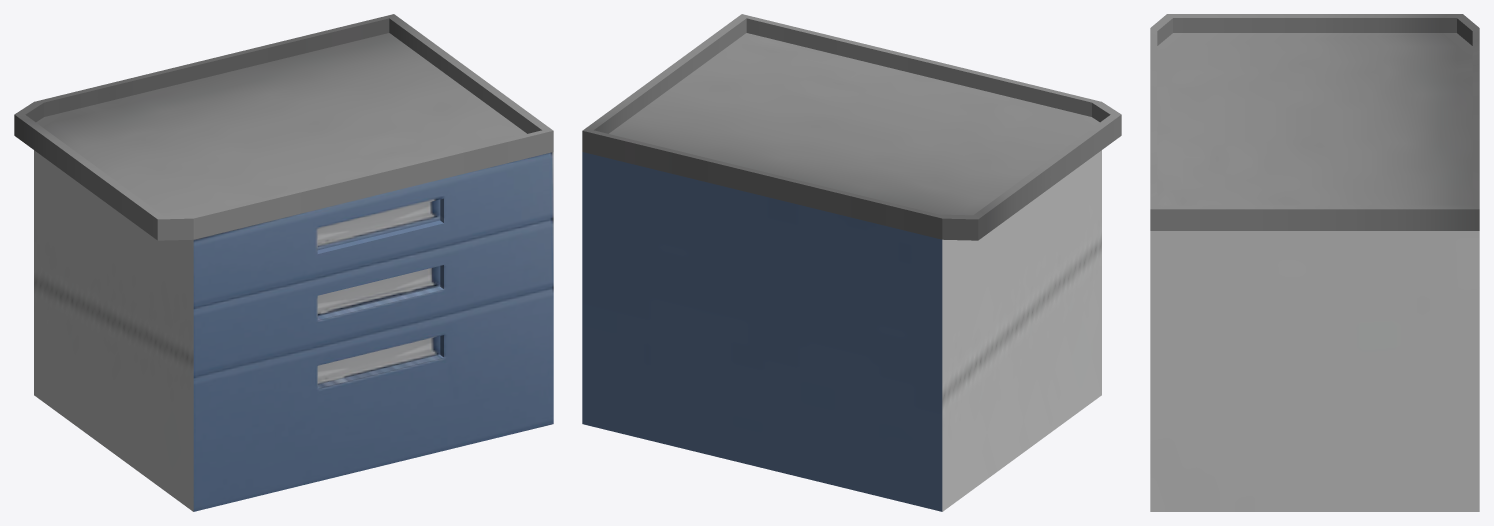
Rendered from tableroulante.fbx.
3 renders of one model, left to right at view 1: azimuth 30°, elevation 25°; view 2: azimuth 150°, elevation 25°; view 3: azimuth 270°, elevation 25°, orthographic. The views are drawn at different scales.
Visible parts, largest first — view 1: MSH_meuble4; view 2: MSH_meuble4; view 3: MSH_meuble4.
Part boxes in pixels (x1=…): MSH_meuble4: x1=14, y1=14, x2=553, y2=511; MSH_meuble4: x1=582, y1=14, x2=1121, y2=511; MSH_meuble4: x1=1150, y1=14, x2=1479, y2=511.
Bounding box in the file's own units: 6.81 × 4.92 × 4.85.
1 material, 1 textured.
